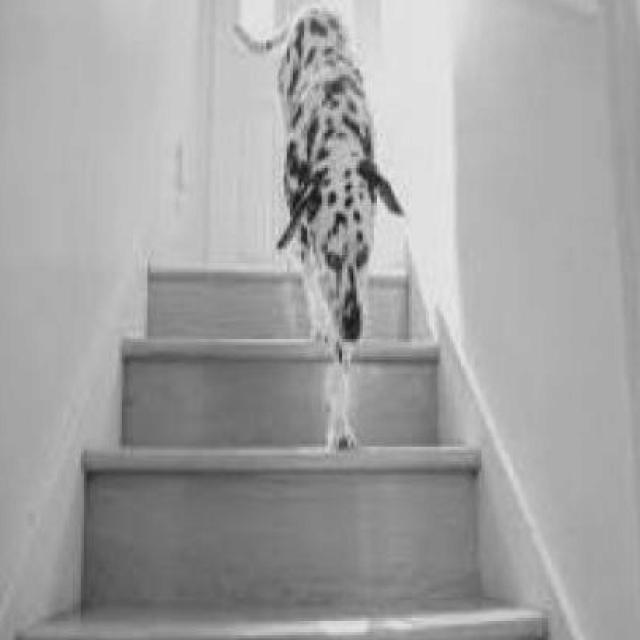stair: (67, 334, 485, 596)
